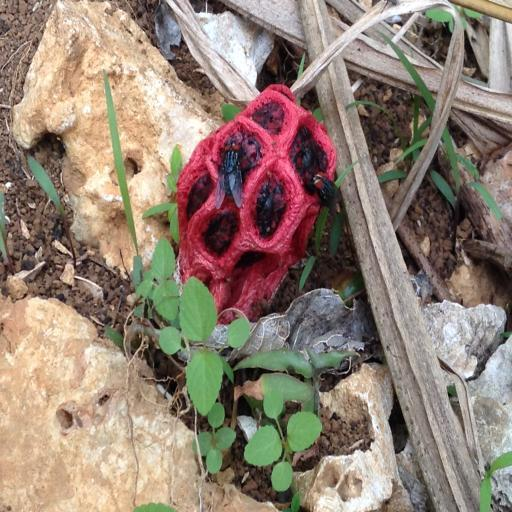mushroom: (177, 84, 341, 326)
